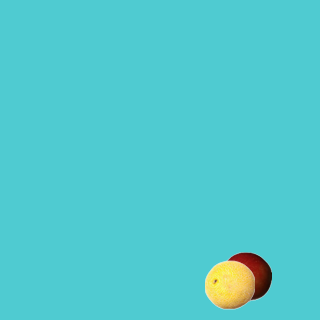Apple Braeburn: (221, 251, 271, 301)
Cantaloupe 1: (204, 259, 254, 309)
